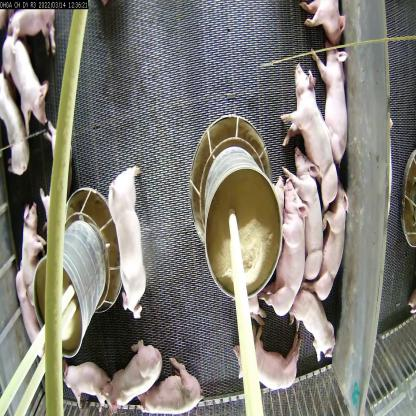Pig: (283, 55, 338, 193), (102, 157, 146, 298), (0, 24, 55, 124), (288, 147, 330, 274), (268, 171, 306, 299), (308, 40, 348, 155), (111, 326, 157, 416), (320, 194, 353, 312), (298, 267, 336, 360), (2, 88, 36, 187), (60, 350, 107, 415), (17, 206, 41, 324), (148, 361, 192, 416)
